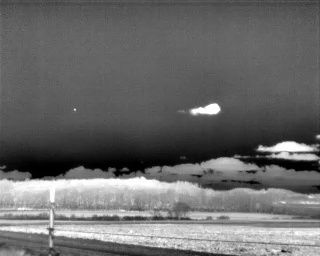DRONE: (71, 105, 79, 114)
